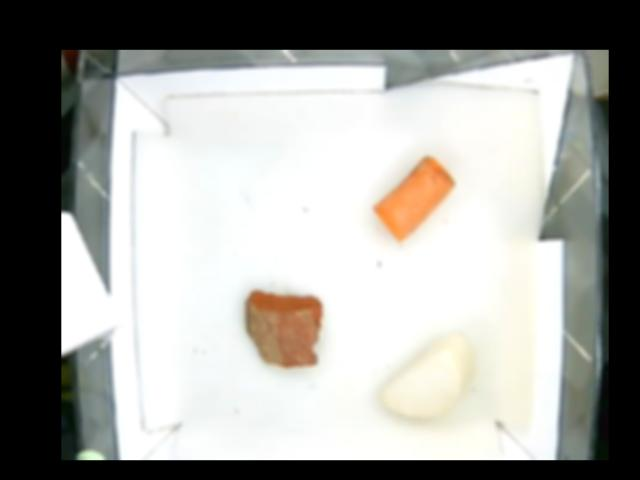Brisk: (243, 289, 323, 367)
Carrot: (371, 153, 459, 243)
Mooli: (375, 328, 475, 419)
